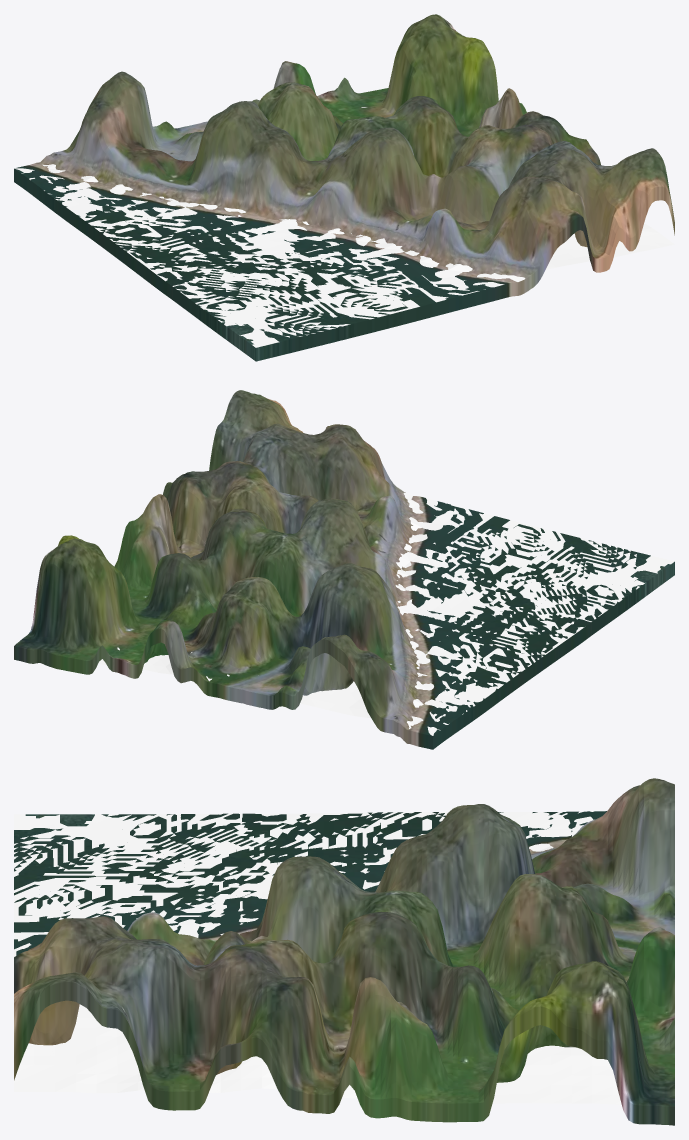
3 renders of one model, top to bottom at view 1: azimuth 30°, elevation 25°; view 2: azimuth 150°, elevation 25°; view 3: azimuth 270°, elevation 25°, orthographic. The views are drawn at different scales.
Visible parts, largest first — view 1: surface, ground; view 2: surface, ground; view 3: surface, ground.
Boxes of the visible parts, x1,y1,x2,y2 form: surface: (14, 14, 674, 361); ground: (14, 107, 674, 347); surface: (14, 390, 674, 749); ground: (98, 493, 674, 735); surface: (14, 778, 674, 1125); ground: (14, 811, 621, 1104).
Size of the model in its own units: 128 by 30.95 by 128.
2 materials, 1 textured.
